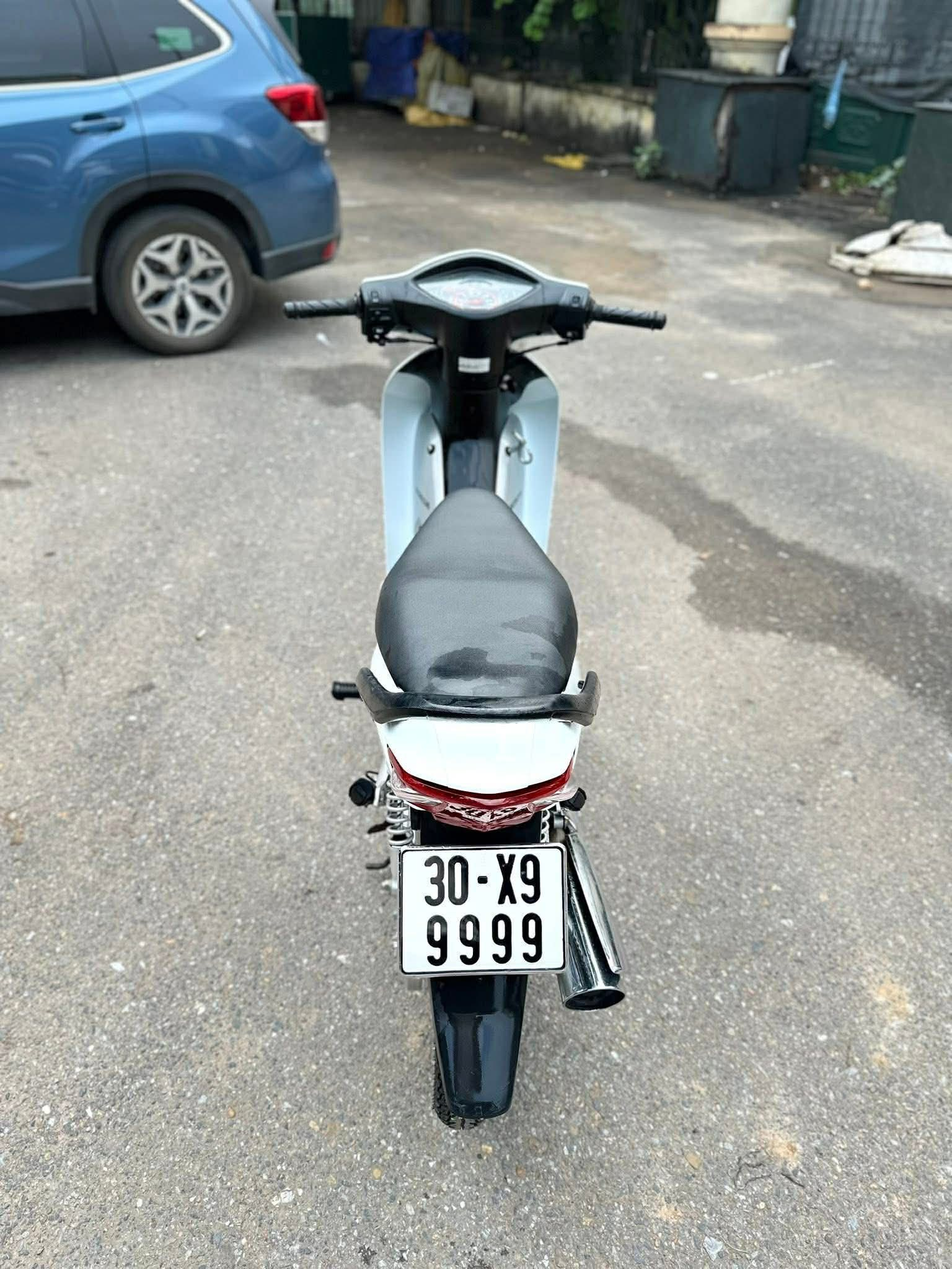bien_so: (389, 841, 578, 985)
